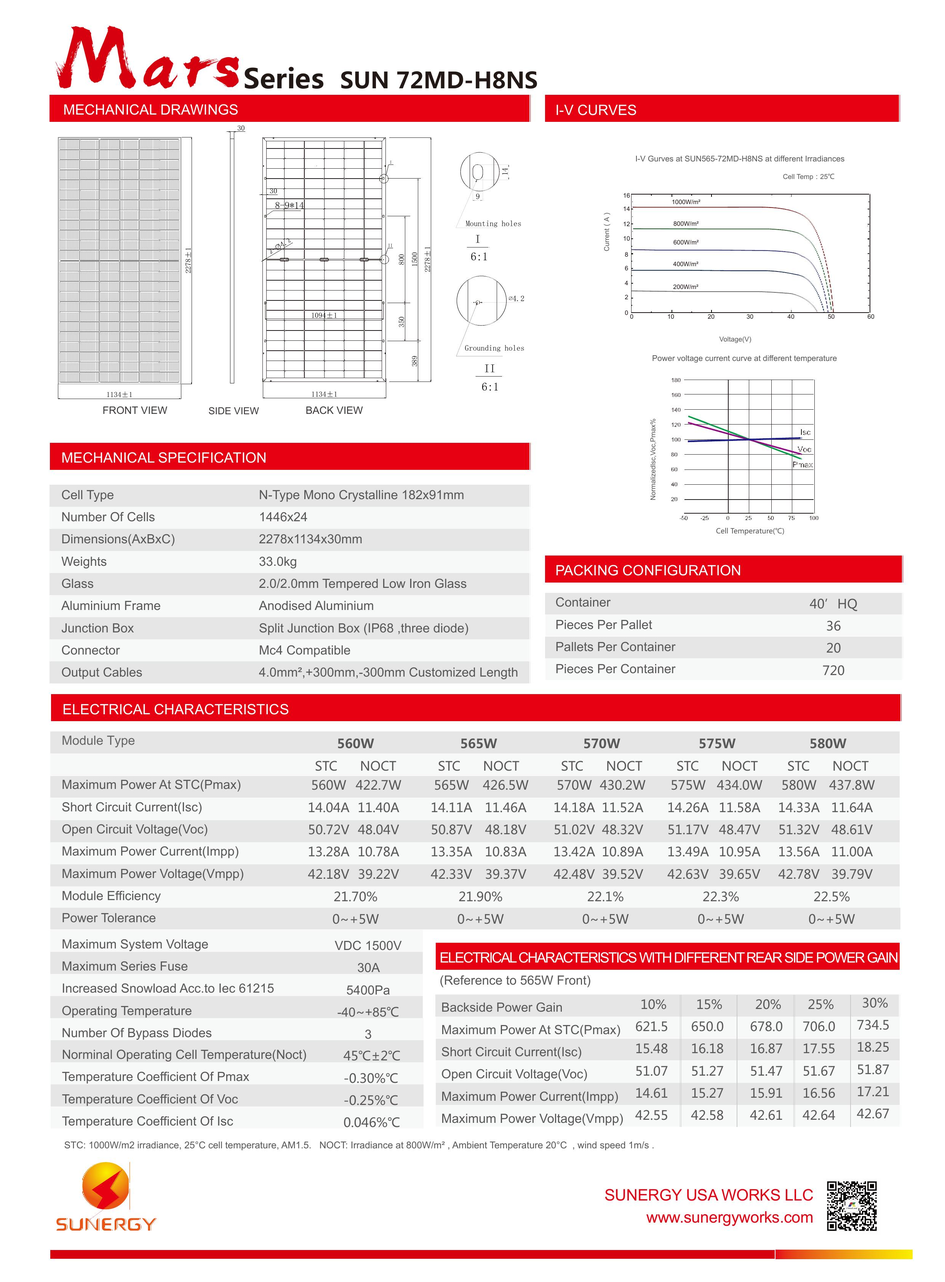table: (37, 690, 910, 934), (36, 436, 537, 688), (435, 938, 910, 1130), (542, 550, 910, 685)
